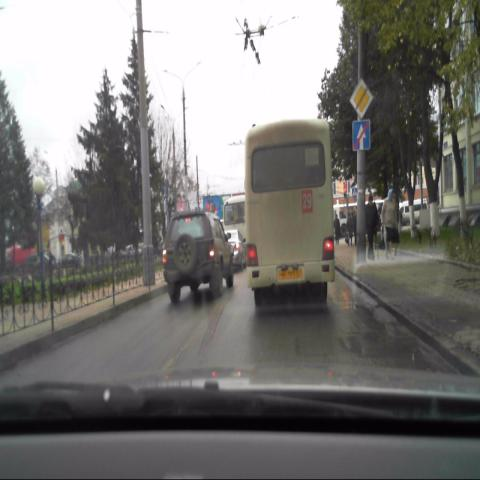2_2: (350, 79, 373, 119)
5_6: (352, 121, 371, 152)
